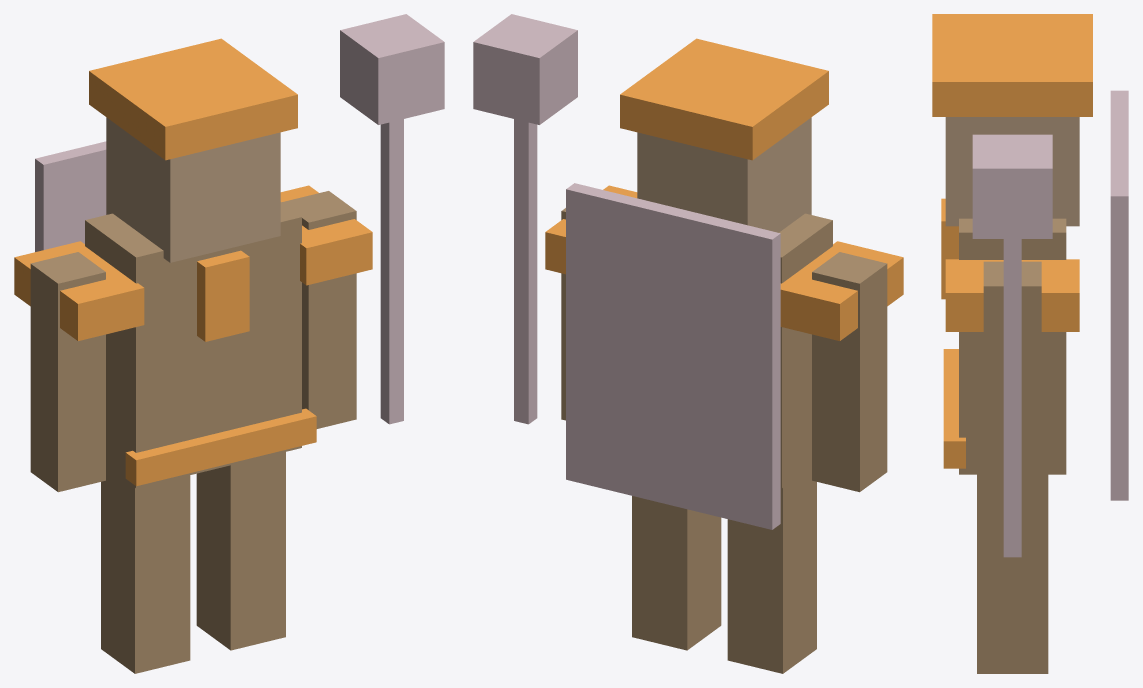
Rendered from 07_ilyra_brightlock_custodian_near_smoke.glb.
The picture shows the model from 3 angles, left to right: view 1: azimuth 30°, elevation 25°; view 2: azimuth 150°, elevation 25°; view 3: azimuth 270°, elevation 25°; orthographic projection. The views are drawn at different scales.
Parts seen in each view (by area): view 1: Ilyra Brightlock, Custodian near Smoke; view 2: Ilyra Brightlock, Custodian near Smoke; view 3: Ilyra Brightlock, Custodian near Smoke.
Boxes of the visible parts, x1,y1,x2,y2 form: Ilyra Brightlock, Custodian near Smoke: [14, 14, 444, 673]; Ilyra Brightlock, Custodian near Smoke: [473, 14, 903, 673]; Ilyra Brightlock, Custodian near Smoke: [932, 14, 1128, 673].
Size of the model in its own units: 1.06 by 1.49 by 0.4496.
